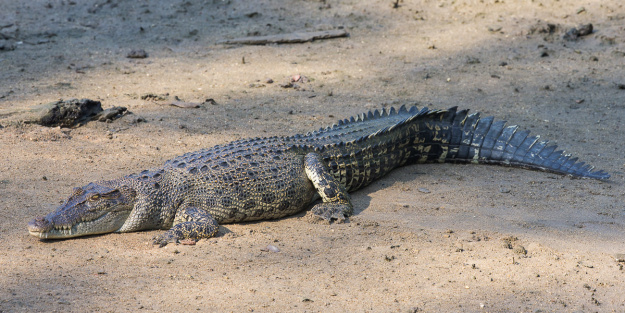Crocodile: (30, 103, 613, 247)
